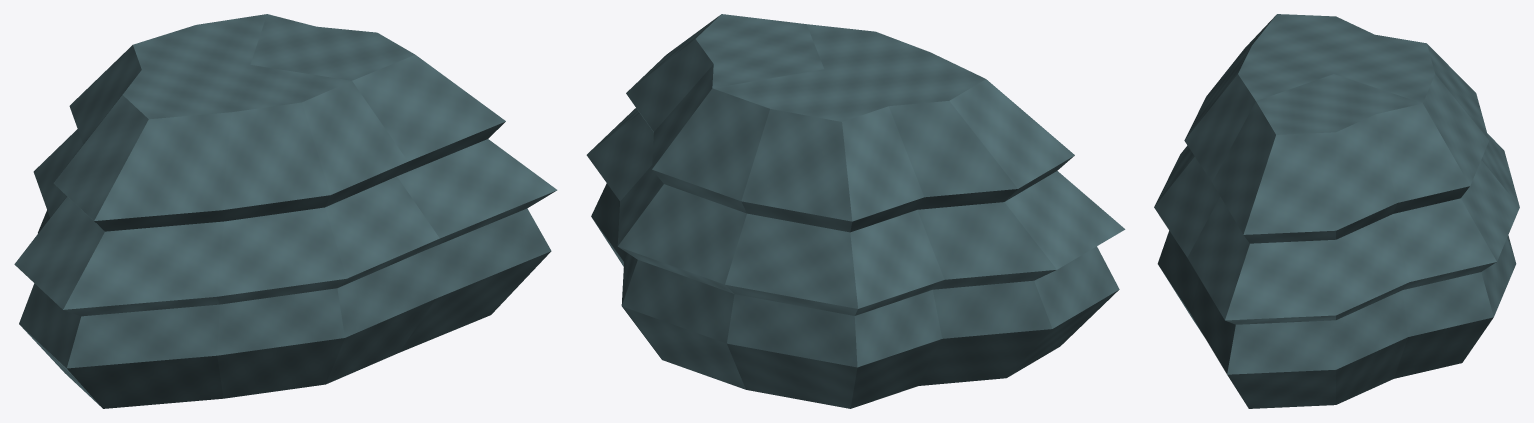
The model's file is underworld-resource-blackwater-flowstone.glb.
3 renders of one model, left to right at view 1: azimuth 30°, elevation 25°; view 2: azimuth 150°, elevation 25°; view 3: azimuth 270°, elevation 25°, orthographic. The views are drawn at different scales.
Parts seen in each view (by area): view 1: chunk; view 2: chunk; view 3: chunk.
Boxes of the visible parts, x1=… form: chunk: x1=14, y1=14, x2=557, y2=408; chunk: x1=586, y1=14, x2=1125, y2=408; chunk: x1=1154, y1=14, x2=1519, y2=408.
Size of the model in its own units: 0.4688 by 0.24 by 0.3231.
1 material, 1 textured.
